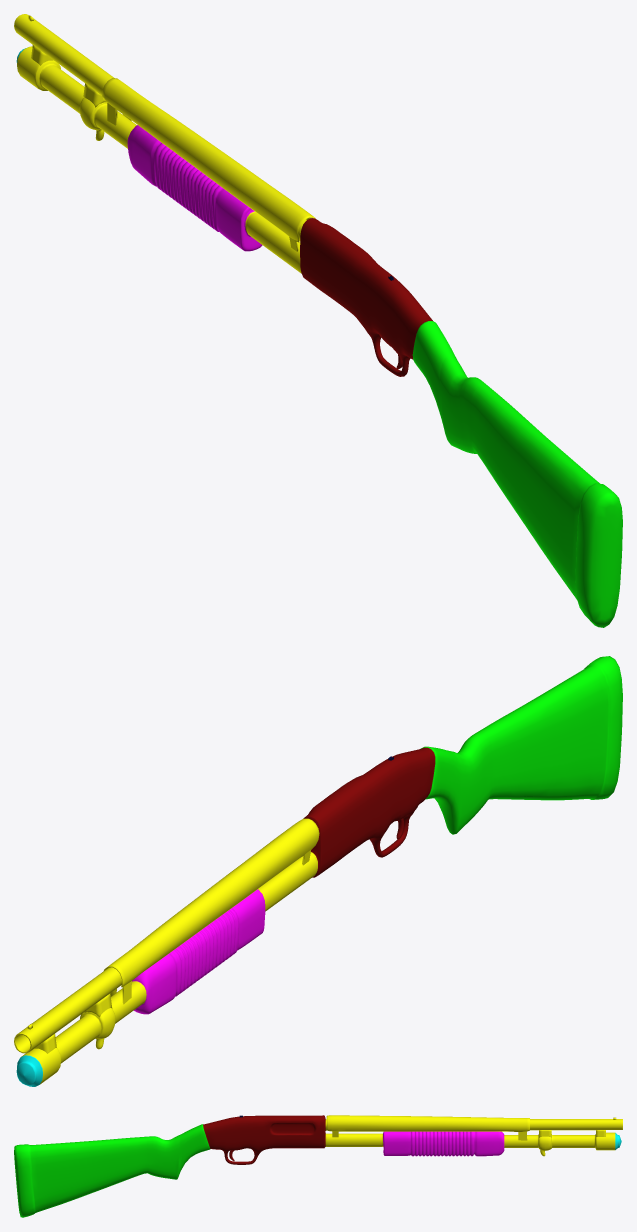
3 views of the same model, one above another, from view 1: azimuth 30°, elevation 25°; view 2: azimuth 150°, elevation 25°; view 3: azimuth 270°, elevation 25° (orthographic). The views are drawn at different scales.
Visible parts, largest first — view 1: g shotgun_exp_substein:Mesh (×4); view 2: g shotgun_exp_substein:Mesh (×5); view 3: g shotgun_exp_substein:Mesh (×4).
Part boxes in pixels (x1,y1,x2,y2): g shotgun_exp_substein:Mesh (×4): [14, 14, 622, 627]; g shotgun_exp_substein:Mesh (×5): [14, 656, 622, 1086]; g shotgun_exp_substein:Mesh (×4): [14, 1115, 622, 1217].
Bounding box in the file's own units: 0.0732 × 0.3673 × 2.
